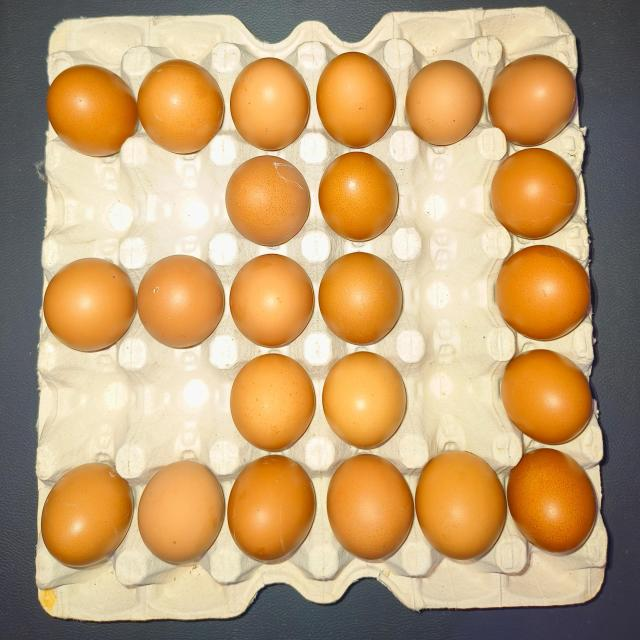Eggs: (31, 458, 132, 568), (509, 443, 599, 556), (136, 453, 224, 568), (232, 448, 316, 562), (495, 347, 594, 443), (320, 453, 408, 561), (38, 252, 130, 354), (141, 245, 230, 349), (422, 447, 502, 559), (52, 62, 136, 164), (130, 61, 220, 156), (316, 51, 396, 157), (228, 58, 308, 157), (324, 355, 410, 447), (315, 148, 400, 240), (498, 248, 592, 330), (502, 150, 576, 254), (321, 254, 404, 346), (234, 352, 311, 449), (494, 42, 575, 134), (226, 160, 309, 248), (232, 261, 308, 348), (415, 63, 475, 147)
